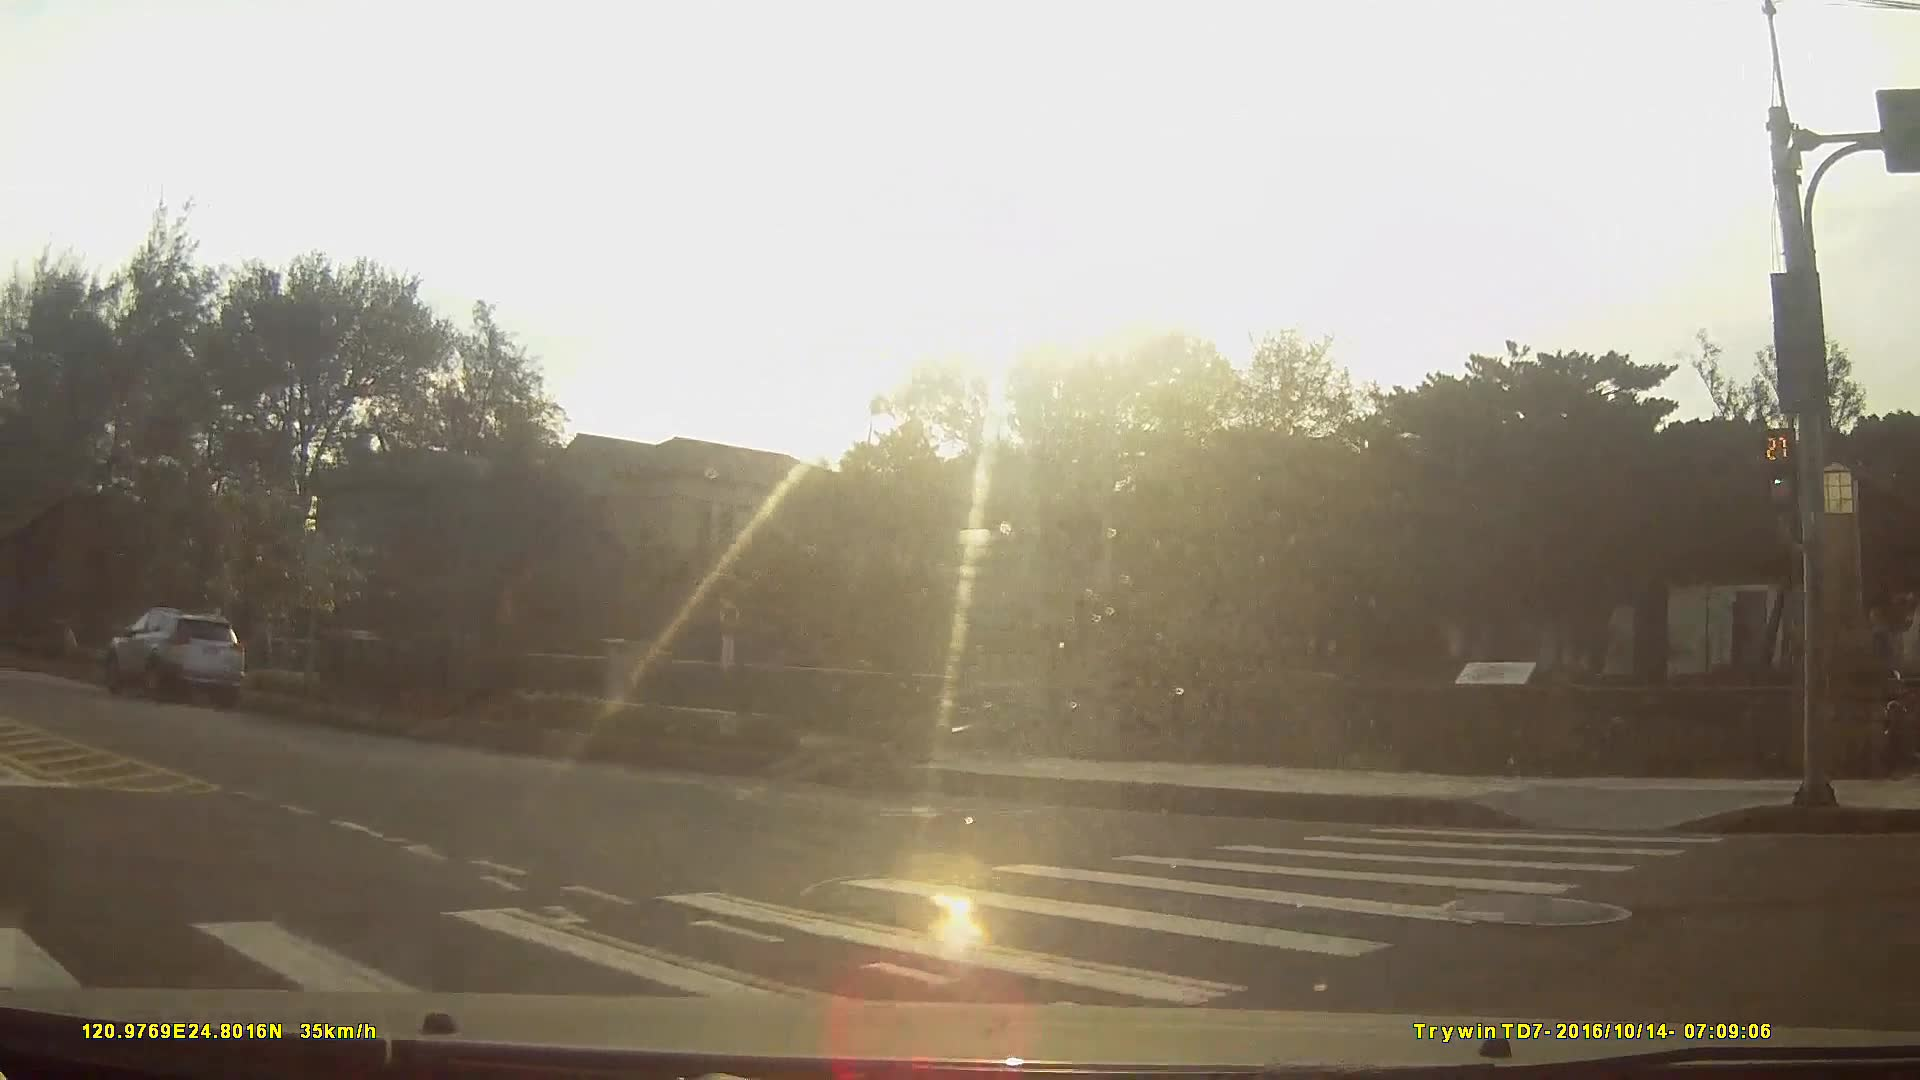vehicle: (104, 604, 244, 703)
